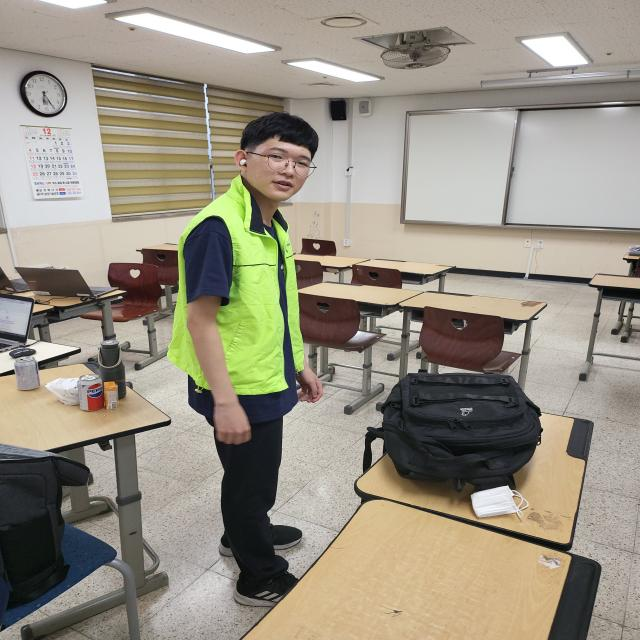weston_spy: (154, 164, 352, 433)
